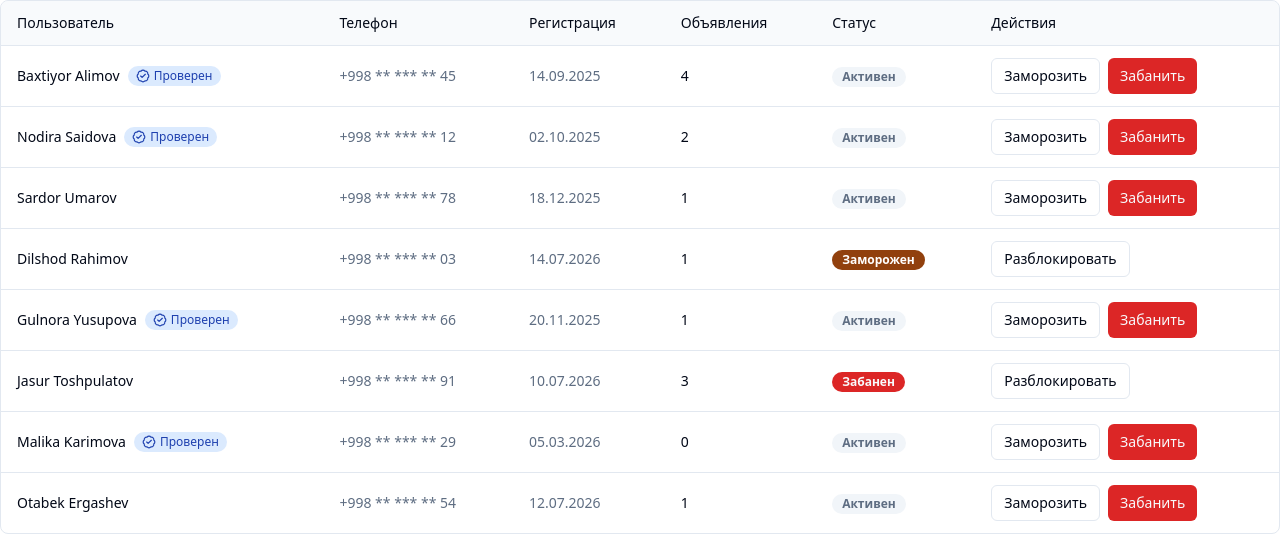
Test case: restoring a banned user returns the row to «Активен» with suspend/ban actions
The image size is (1280, 551).
Expected: the text "Jasur Toshpulatov" is shown, [17,371,133,391]
Click the button "Разблокировать" in the row of "Jasur Toshpulatov" at (1060, 381), box [991,363,1130,399]
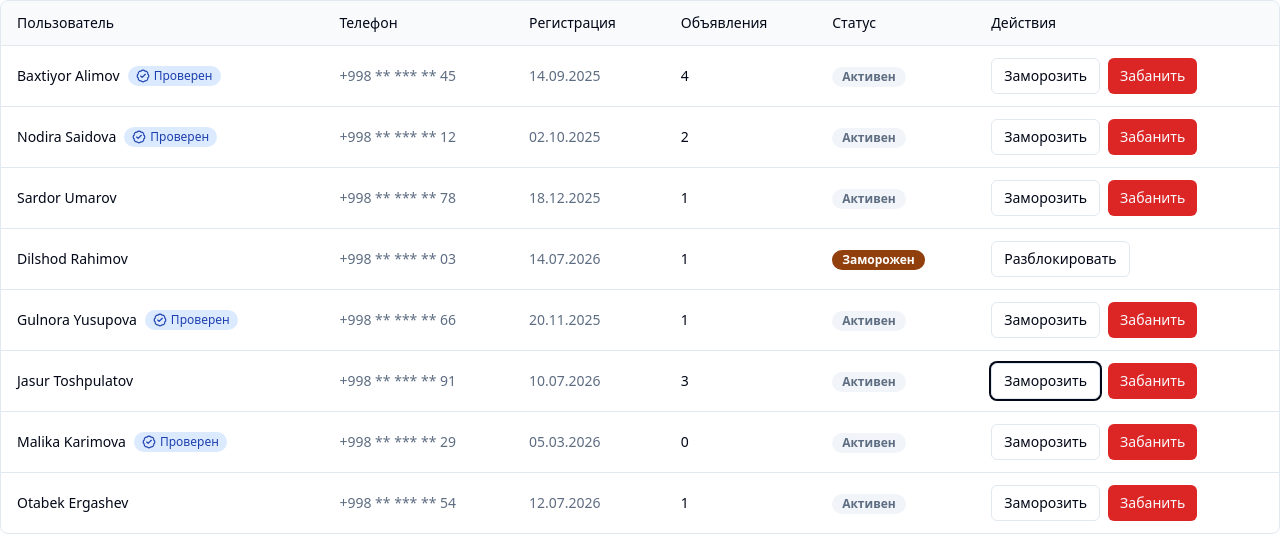
Expected: the text "Активен" in the row of "Jasur Toshpulatov" is shown, [842,372,896,390]
Expected: the button "Заморозить" in the row of "Jasur Toshpulatov" is shown, [991,363,1100,399]
Expected: the button "Забанить" in the row of "Jasur Toshpulatov" is shown, [1108,363,1197,399]
